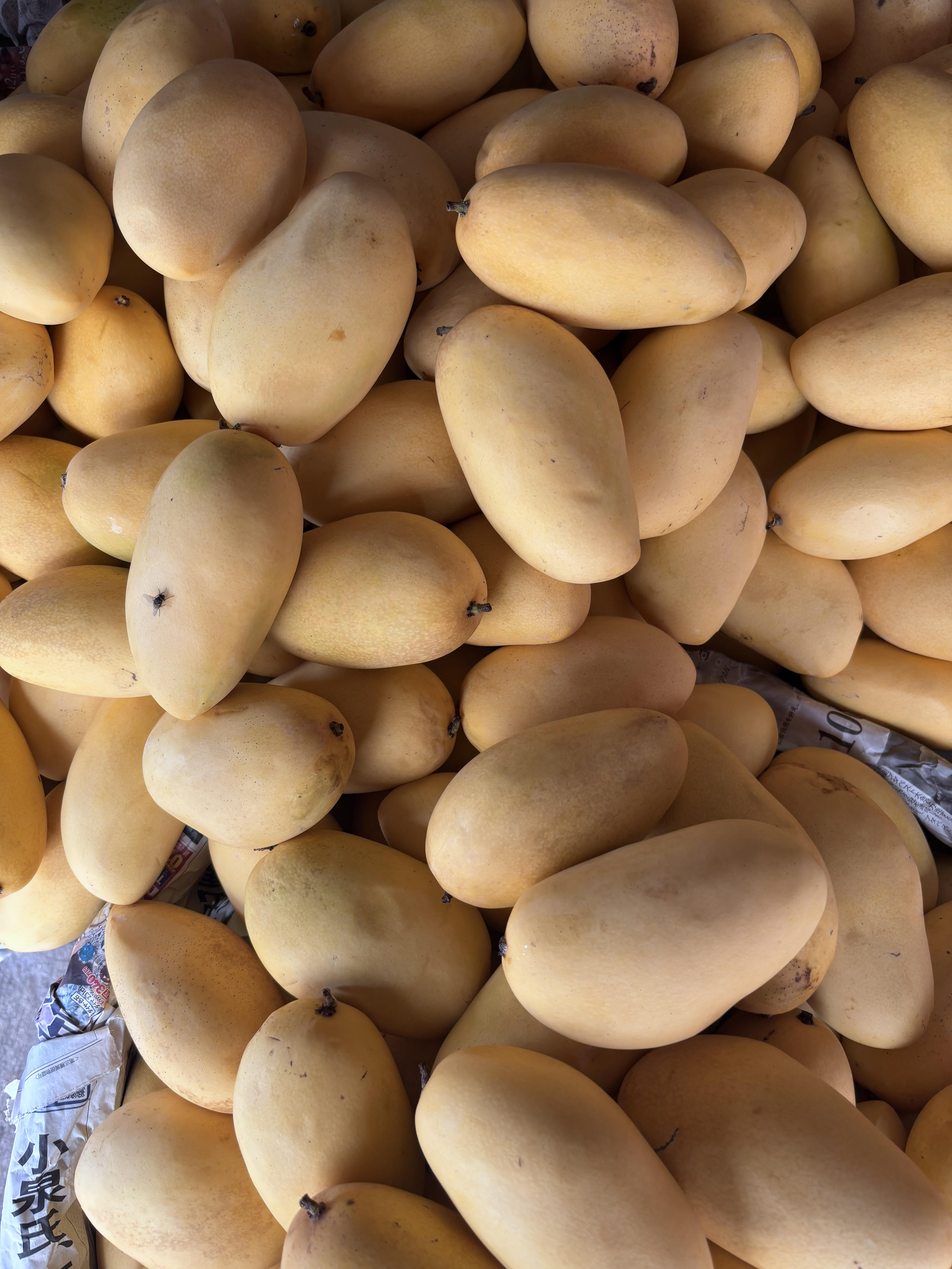mango: (502, 819, 827, 1050), (208, 172, 416, 446), (435, 306, 640, 584), (426, 708, 687, 909), (126, 425, 302, 719), (446, 163, 746, 329), (113, 58, 306, 281)
occluded: (619, 1035, 952, 1269), (416, 1046, 712, 1269), (647, 722, 838, 1015), (245, 828, 492, 1039), (759, 763, 934, 1048), (233, 989, 424, 1230), (105, 900, 282, 1113), (75, 1089, 284, 1269), (142, 684, 354, 850), (611, 313, 762, 539), (271, 512, 487, 668), (82, 0, 233, 210), (460, 616, 696, 750), (299, 111, 462, 291), (310, 0, 526, 133), (284, 378, 477, 525), (433, 965, 645, 1096), (771, 747, 938, 912), (625, 452, 767, 646), (266, 662, 462, 794), (791, 273, 952, 431), (61, 696, 183, 904), (777, 137, 899, 335), (768, 429, 952, 560), (844, 903, 952, 1114), (61, 420, 218, 561), (471, 86, 687, 186), (849, 63, 952, 271), (50, 285, 184, 439), (660, 33, 801, 177), (722, 533, 862, 677), (0, 566, 150, 699), (0, 154, 113, 325), (281, 1182, 502, 1269), (672, 168, 806, 311), (450, 513, 591, 646), (0, 435, 119, 580), (0, 784, 102, 953), (803, 639, 952, 750), (674, 0, 820, 108), (526, 0, 678, 97), (846, 524, 952, 661), (822, 0, 952, 109), (716, 1008, 856, 1107), (422, 88, 548, 194), (404, 263, 512, 380), (26, 0, 140, 95), (672, 683, 778, 777), (8, 679, 104, 781), (8, 679, 103, 782), (218, 0, 341, 76), (164, 264, 238, 389), (0, 701, 47, 896), (737, 311, 807, 433), (0, 93, 87, 176), (765, 88, 840, 180), (378, 773, 454, 862), (0, 312, 53, 439), (906, 1085, 952, 1214), (209, 840, 269, 917), (792, 0, 855, 61), (246, 633, 302, 680), (856, 1100, 907, 1151), (122, 1052, 167, 1105), (589, 577, 643, 621), (96, 1231, 143, 1269), (915, 43, 952, 74), (299, 1194, 326, 1219), (466, 600, 492, 617), (418, 1063, 430, 1092), (418, 1063, 430, 1091)
